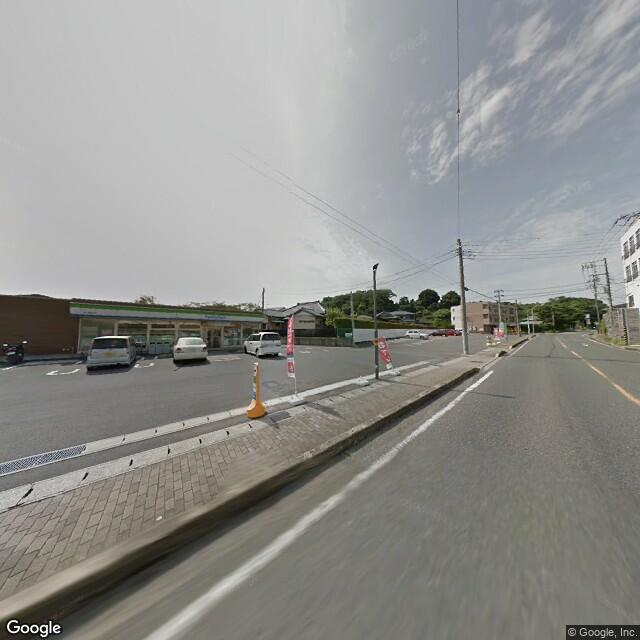family_mart: (68, 300, 263, 322)
